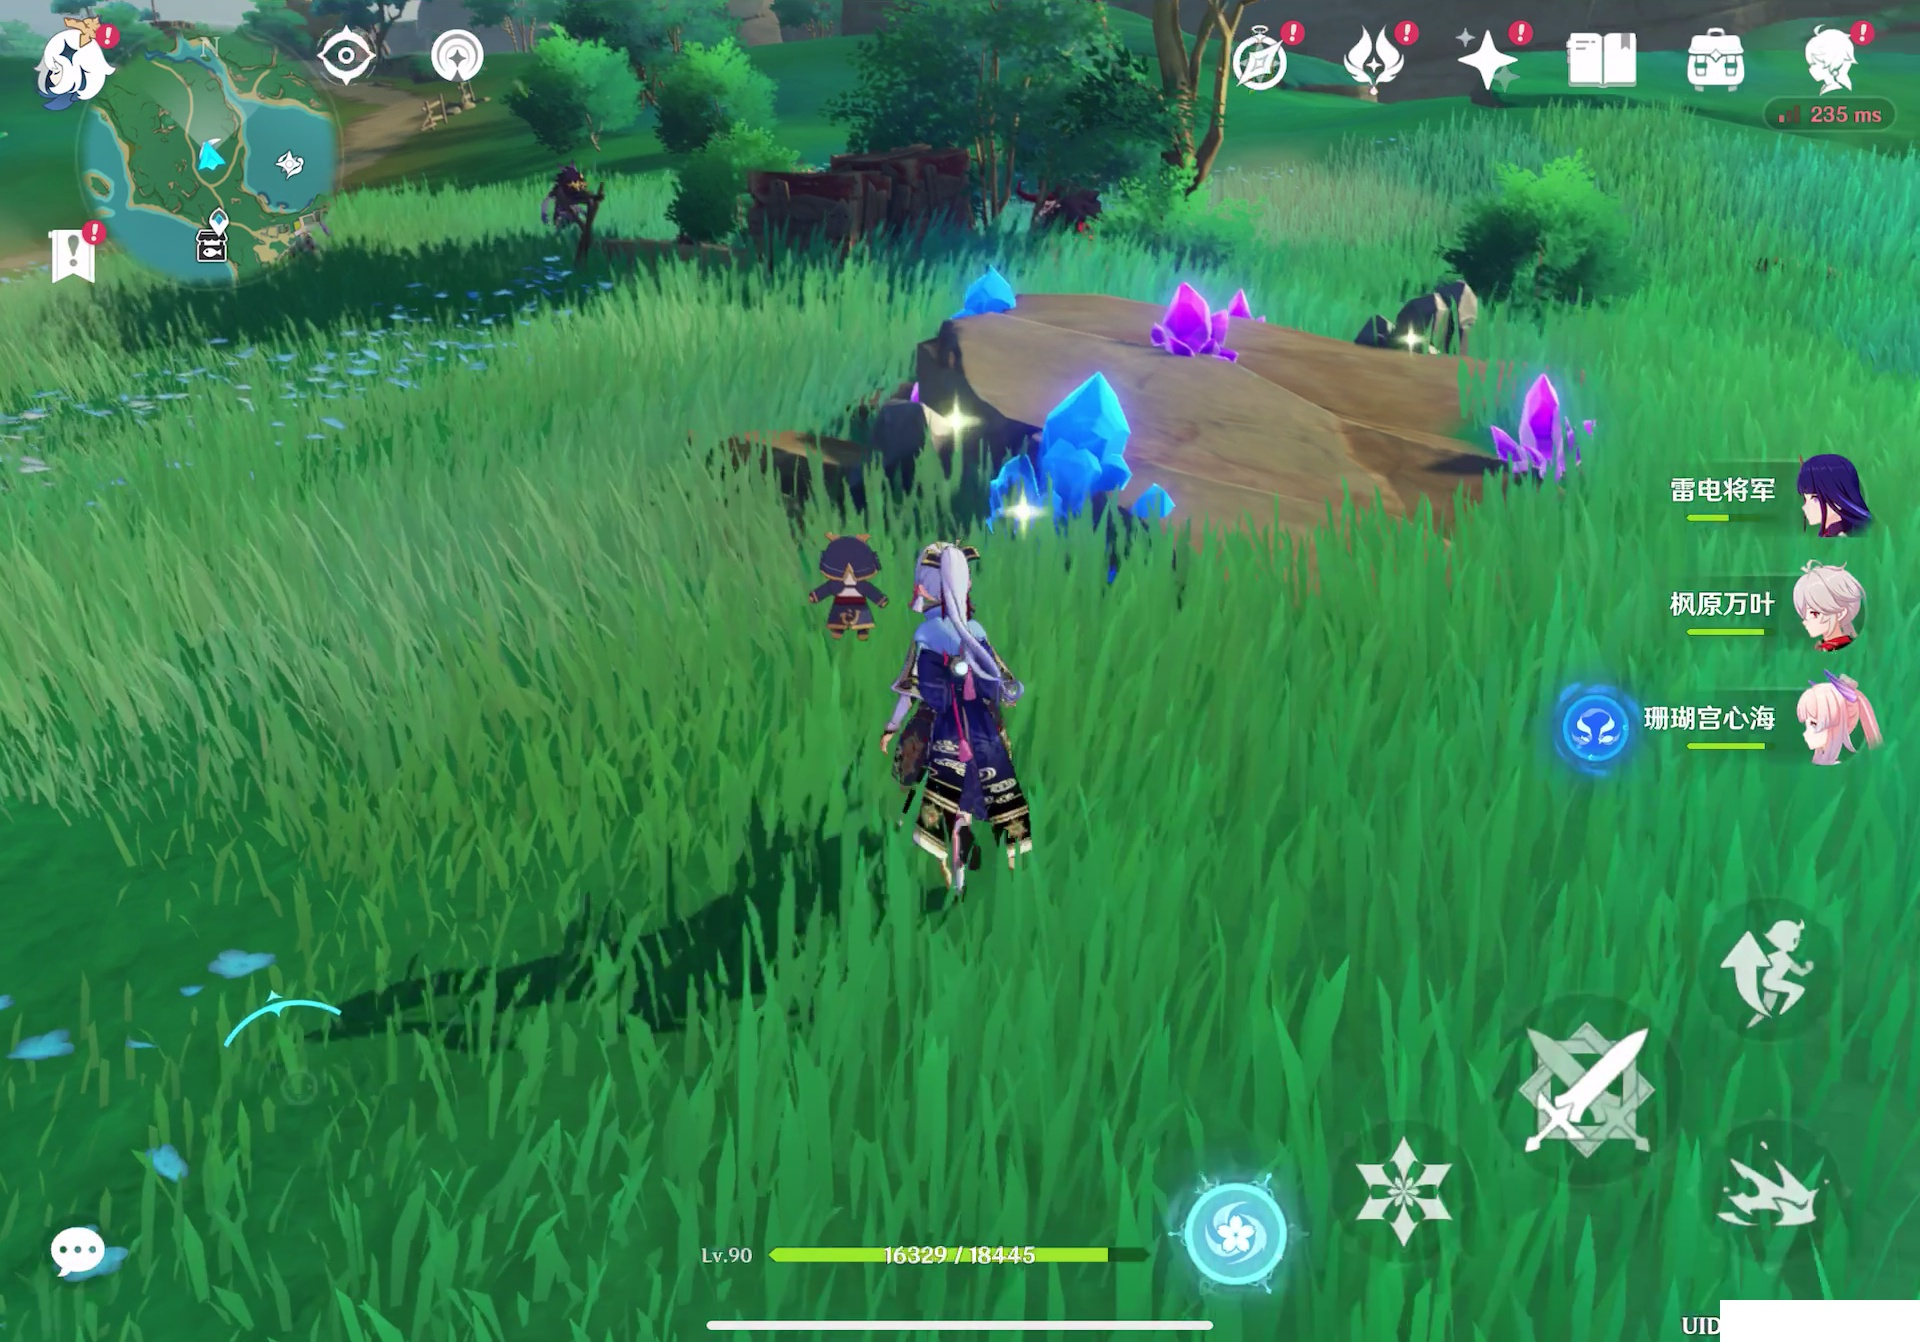丘丘人: (533, 153, 587, 245)
白铁矿石: (848, 395, 1001, 497), (1361, 263, 1490, 363)
神里绫龟: (890, 535, 1030, 918)
紫矿石: (1490, 389, 1618, 496), (1145, 260, 1255, 368)
蓝矿石: (975, 363, 1188, 569), (947, 252, 1034, 325)
